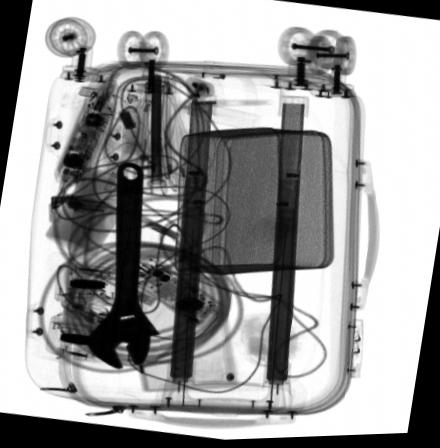Wrench: (86, 163, 161, 370)
